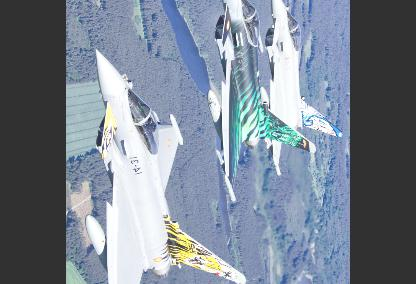E2: (84, 48, 247, 283), (207, 0, 317, 201), (260, 0, 344, 176)
